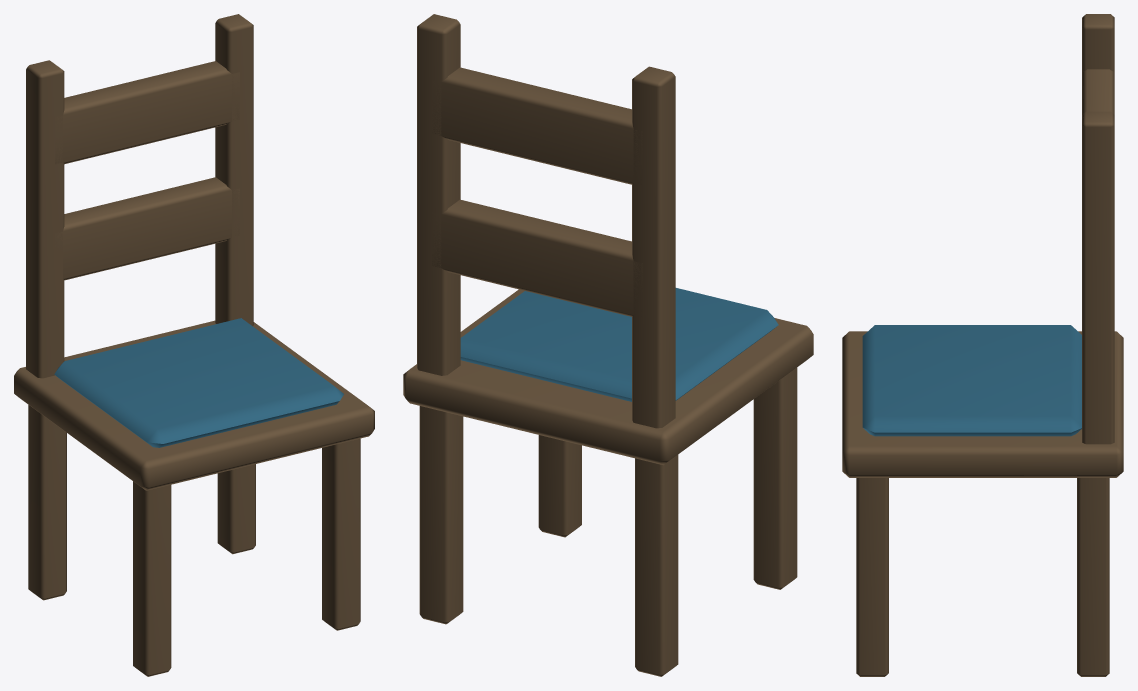
Rendered from home_chair.glb.
3 views of the same model, side by side, from view 1: azimuth 30°, elevation 25°; view 2: azimuth 150°, elevation 25°; view 3: azimuth 270°, elevation 25° (orthographic). The views are drawn at different scales.
Parts seen in each view (by area): view 1: chair leg, blue seat cushion; view 2: chair leg, blue seat cushion; view 3: chair leg, blue seat cushion.
Boxes of the visible parts, x1,y1,x2,y2 form: chair leg: [14, 14, 374, 676]; blue seat cushion: [54, 318, 343, 447]; chair leg: [403, 14, 813, 676]; blue seat cushion: [460, 288, 778, 401]; chair leg: [842, 14, 1123, 676]; blue seat cushion: [862, 325, 1081, 436].
Size of the model in its own units: 0.57 by 1.22 by 0.56.
